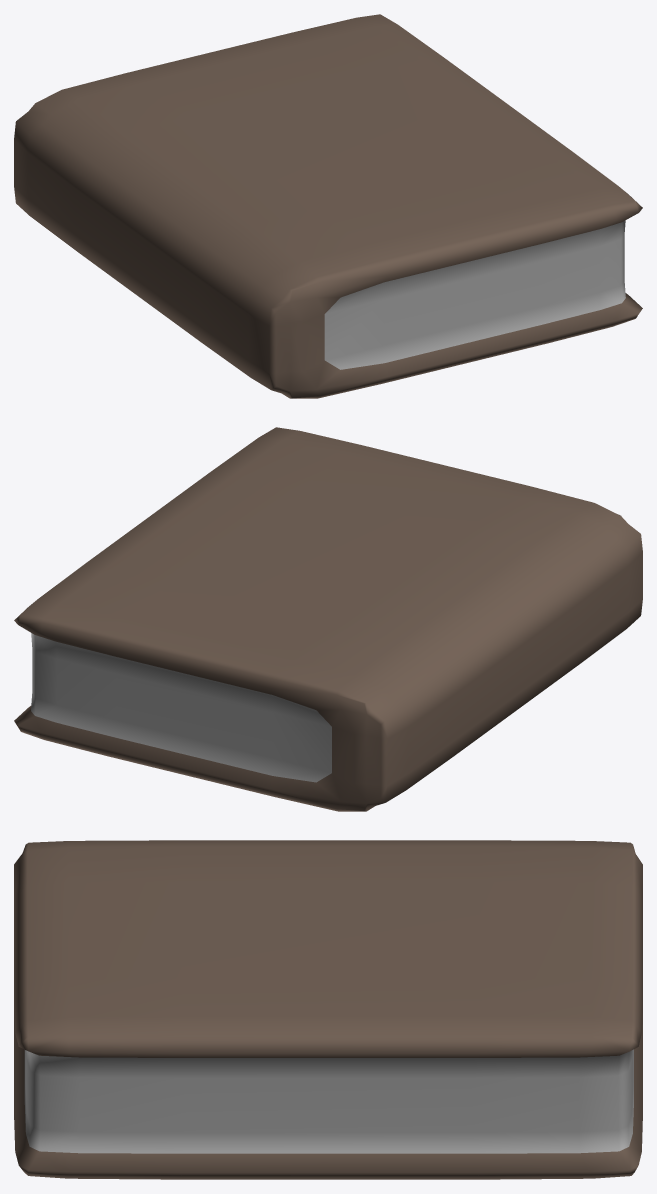
Rendered from UV bible book.fbx.
The picture shows the model from 3 angles, top to bottom: view 1: azimuth 30°, elevation 25°; view 2: azimuth 150°, elevation 25°; view 3: azimuth 270°, elevation 25°; orthographic projection. The views are drawn at different scales.
Parts seen in each view (by area): view 1: book5; view 2: book5; view 3: book5.
Part boxes in pixels (left/top/right/bottom): book5: left=14, top=14, right=642, bottom=398; book5: left=14, top=427, right=642, bottom=811; book5: left=14, top=840, right=642, bottom=1179.
Size of the model in its own units: 1.1 by 0.36 by 1.32.
